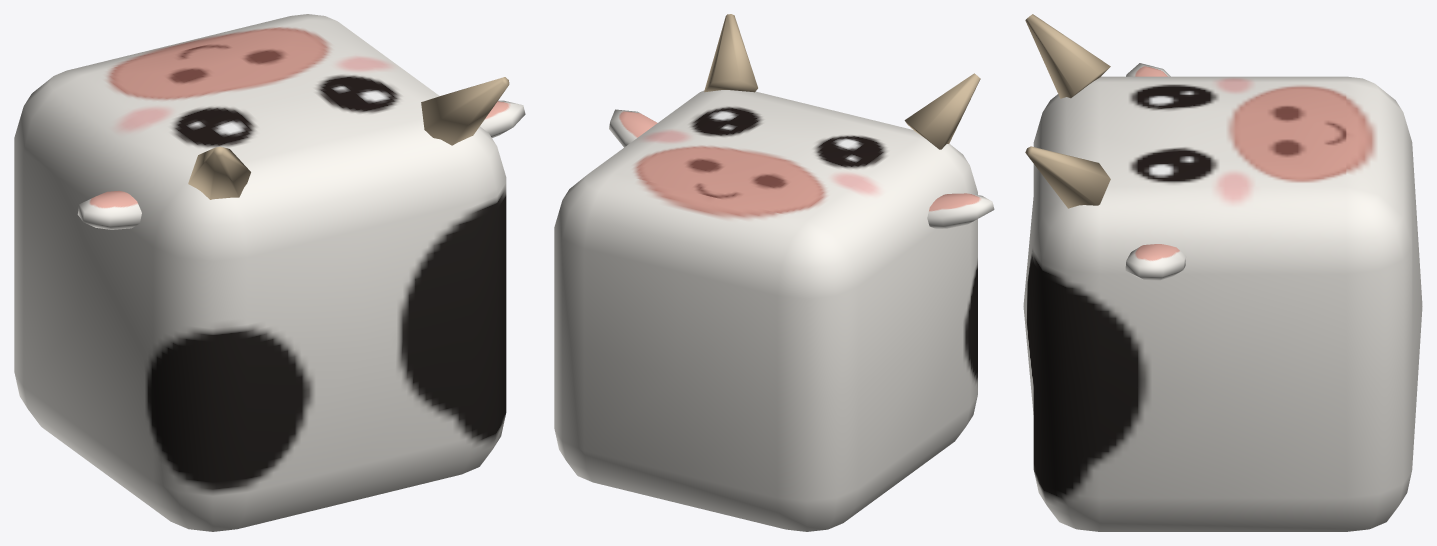
Rendered from Cow_1x1.fbx.
3 renders of one model, left to right at view 1: azimuth 30°, elevation 25°; view 2: azimuth 150°, elevation 25°; view 3: azimuth 270°, elevation 25°, orthographic. The views are drawn at different scales.
Parts seen in each view (by area): view 1: Cow_1x1; view 2: Cow_1x1; view 3: Cow_1x1.
Boxes of the visible parts, <box> form: Cow_1x1: <box>14,14,525,531</box>; Cow_1x1: <box>554,14,994,531</box>; Cow_1x1: <box>1023,14,1422,531</box>.
Size of the model in its own units: 1.18 by 1.02 by 0.97.
Materials: 1 (1 with a texture image).
